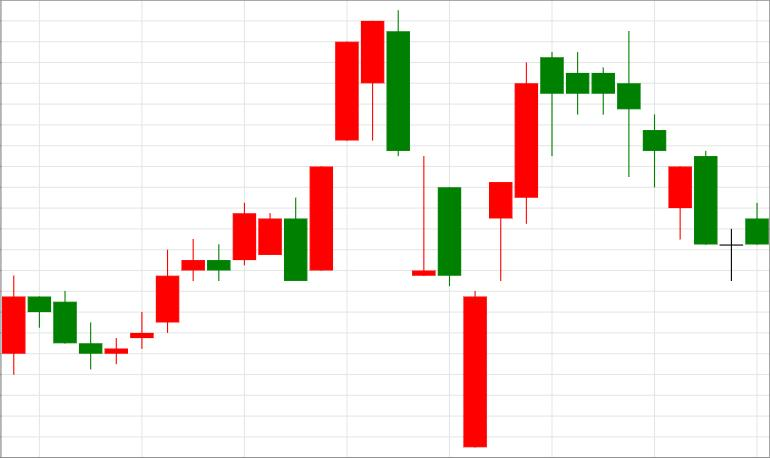bearish_engulfing_fall: (105, 198, 307, 364)
